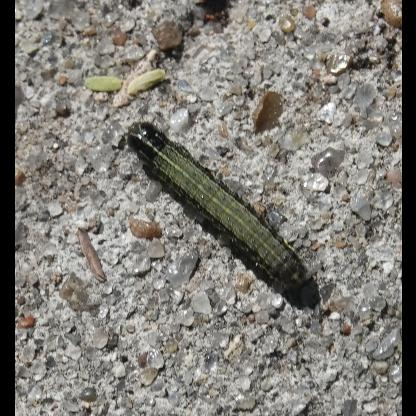Fall Armyworm Larvae: (119, 116, 311, 298)
